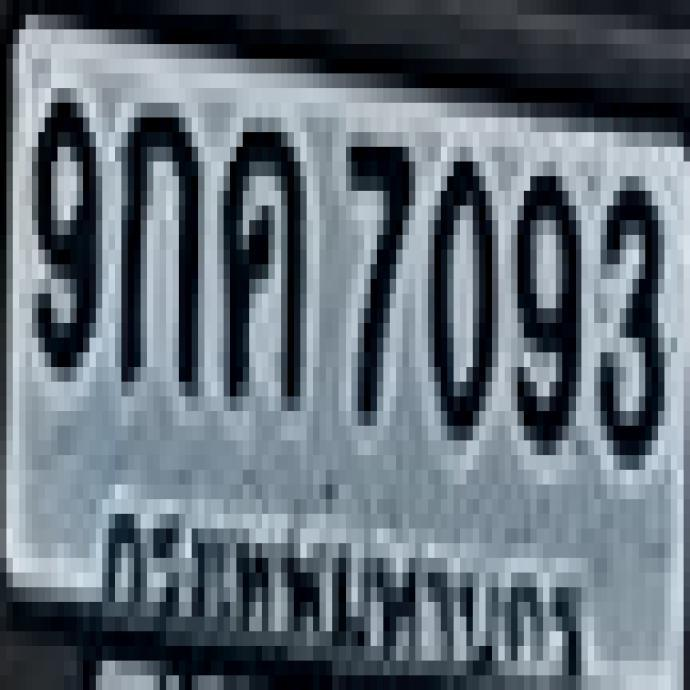0: (424, 141, 489, 425)
3: (593, 164, 659, 456)
7: (343, 122, 409, 412)
9: (29, 81, 93, 367), (509, 160, 574, 440)
A01: (115, 90, 194, 380)
A04: (217, 107, 299, 397)
BKK: (88, 488, 592, 679)
